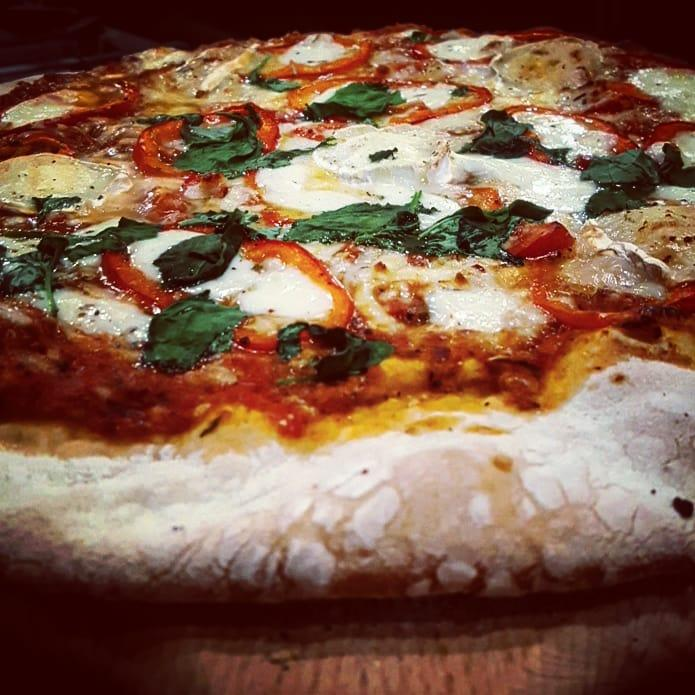Basil: (292, 183, 560, 277), (146, 198, 272, 299), (139, 287, 257, 378), (568, 141, 695, 216), (170, 107, 295, 179), (272, 315, 396, 386), (11, 214, 74, 320), (59, 207, 166, 255), (309, 78, 409, 127), (458, 106, 543, 163), (240, 58, 300, 93)
Peppers: (239, 236, 362, 353), (528, 261, 695, 334), (565, 73, 695, 155), (1, 56, 140, 131), (97, 242, 185, 314), (257, 30, 379, 71), (212, 95, 291, 156), (395, 76, 493, 123), (132, 110, 192, 185), (370, 24, 477, 60), (499, 216, 584, 261), (9, 121, 88, 165), (598, 38, 686, 74), (506, 22, 577, 47), (470, 179, 509, 208)
Pizza: (0, 22, 695, 612)
